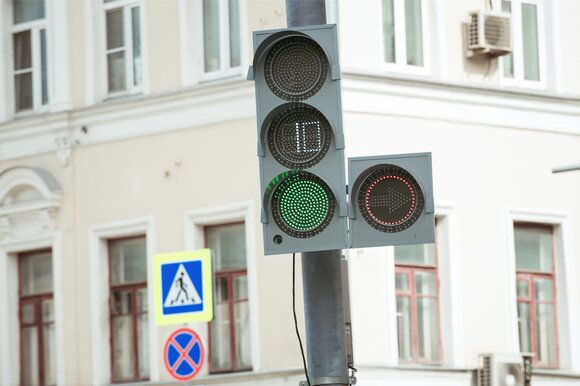tl: (252, 28, 437, 252)
